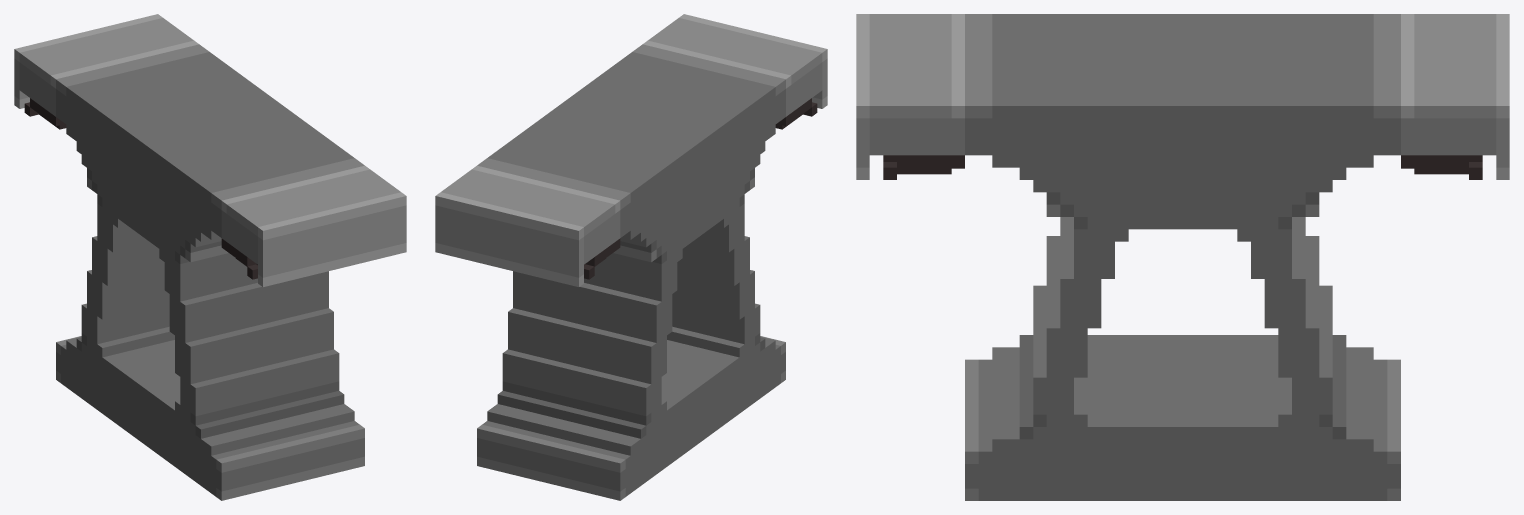
The model's file is voxel-transrapid-track.obj.
The picture shows the model from 3 angles, left to right: view 1: azimuth 30°, elevation 25°; view 2: azimuth 150°, elevation 25°; view 3: azimuth 270°, elevation 25°; orthographic projection. The views are drawn at different scales.
Parts seen in each view (by area): view 1: RAIL_BASE, RAIL_LEFT, RAIL_RIGHT; view 2: RAIL_BASE, RAIL_RIGHT, RAIL_LEFT; view 3: RAIL_BASE, RAIL_LEFT, RAIL_RIGHT.
Part boxes in pixels (bbox=[...]): RAIL_BASE: bbox=[56, 44, 364, 500]; RAIL_LEFT: bbox=[221, 165, 406, 286]; RAIL_RIGHT: bbox=[14, 14, 198, 129]; RAIL_BASE: bbox=[477, 44, 785, 500]; RAIL_RIGHT: bbox=[435, 165, 620, 286]; RAIL_LEFT: bbox=[643, 14, 827, 129]; RAIL_BASE: bbox=[965, 14, 1400, 500]; RAIL_LEFT: bbox=[856, 14, 964, 179]; RAIL_RIGHT: bbox=[1401, 14, 1509, 179].
Size of the model in its own units: 1 by 2 by 3.
Materials: 1 (1 with a texture image).
